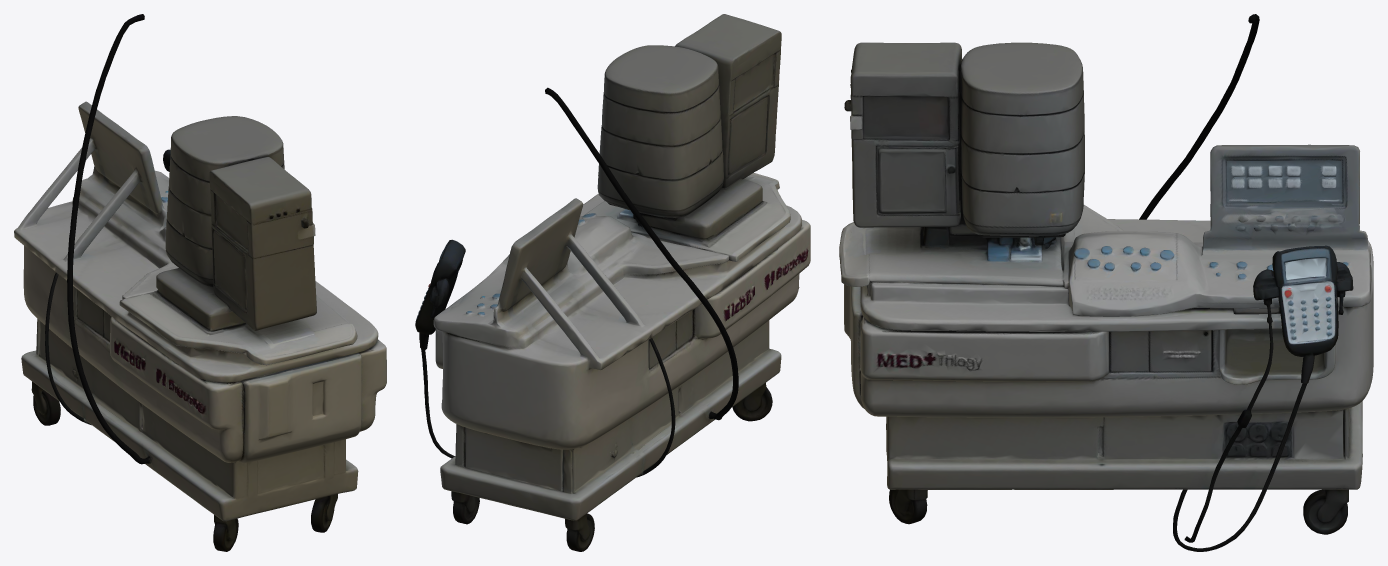
File: labcart3d.glb
3 renders of one model, left to right at view 1: azimuth 30°, elevation 25°; view 2: azimuth 150°, elevation 25°; view 3: azimuth 270°, elevation 25°, orthographic. The views are drawn at different scales.
Parts seen in each view (by area): view 1: tripo_node_3617042c-817b-4c97-b124-a9bfe04103fb; view 2: tripo_node_3617042c-817b-4c97-b124-a9bfe04103fb; view 3: tripo_node_3617042c-817b-4c97-b124-a9bfe04103fb.
Boxes of the visible parts, x1,y1,x2,y2 form: tripo_node_3617042c-817b-4c97-b124-a9bfe04103fb: [14, 14, 386, 551]; tripo_node_3617042c-817b-4c97-b124-a9bfe04103fb: [415, 14, 810, 551]; tripo_node_3617042c-817b-4c97-b124-a9bfe04103fb: [839, 14, 1373, 551].
Size of the model in its own units: 0.603 by 1 by 0.9925.
1 material, 1 textured.
